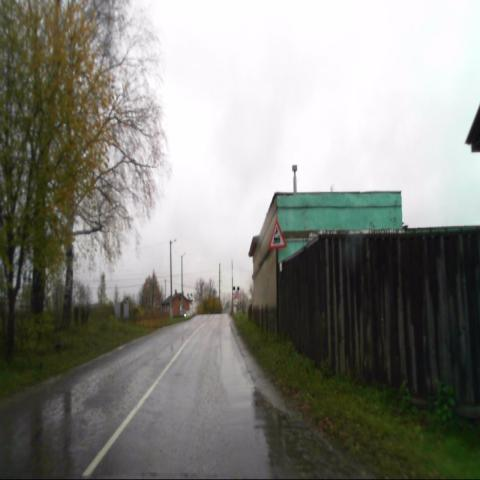1_2: (268, 219, 287, 250)
